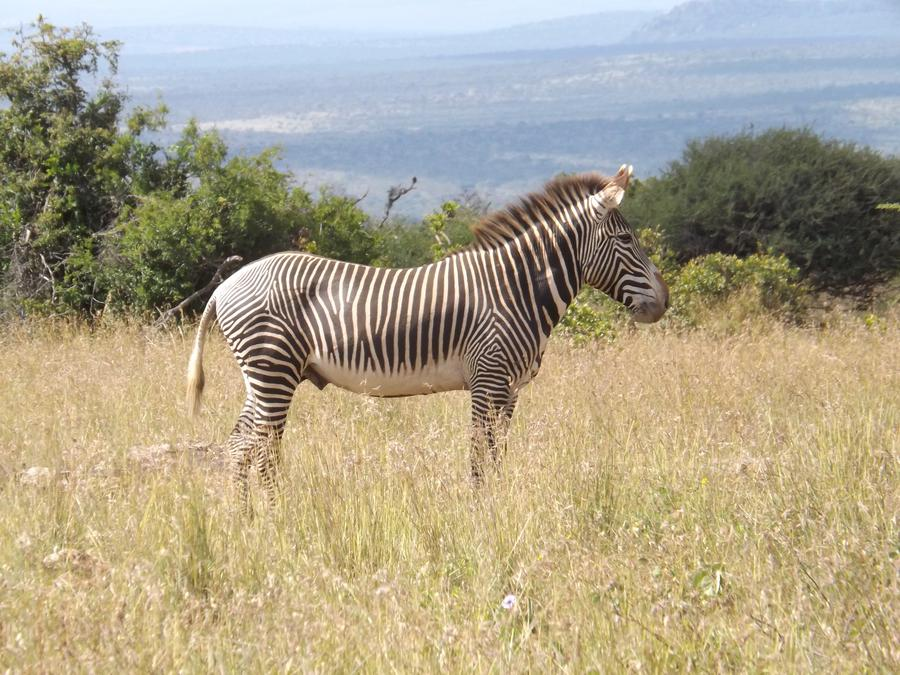zebra_grevys: (213, 252, 525, 386)
